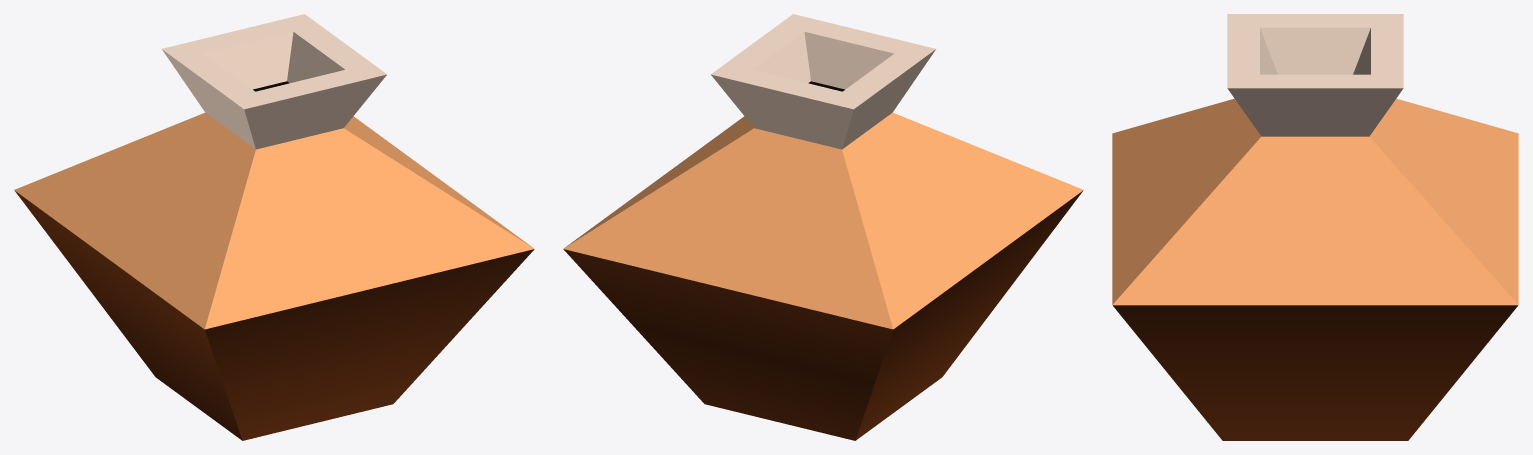
File: Urn 01.FBX
3 views of the same model, side by side, from view 1: azimuth 30°, elevation 25°; view 2: azimuth 150°, elevation 25°; view 3: azimuth 270°, elevation 25° (orthographic). The views are drawn at different scales.
Visible parts, largest first — view 1: Urn 01; view 2: Urn 01; view 3: Urn 01.
Part boxes in pixels (box(x1,y1,x2,y2)): Urn 01: box(14, 14, 534, 440); Urn 01: box(563, 14, 1083, 440); Urn 01: box(1112, 14, 1518, 440).
Size of the model in its own units: 50.93 by 48.49 by 50.93.
